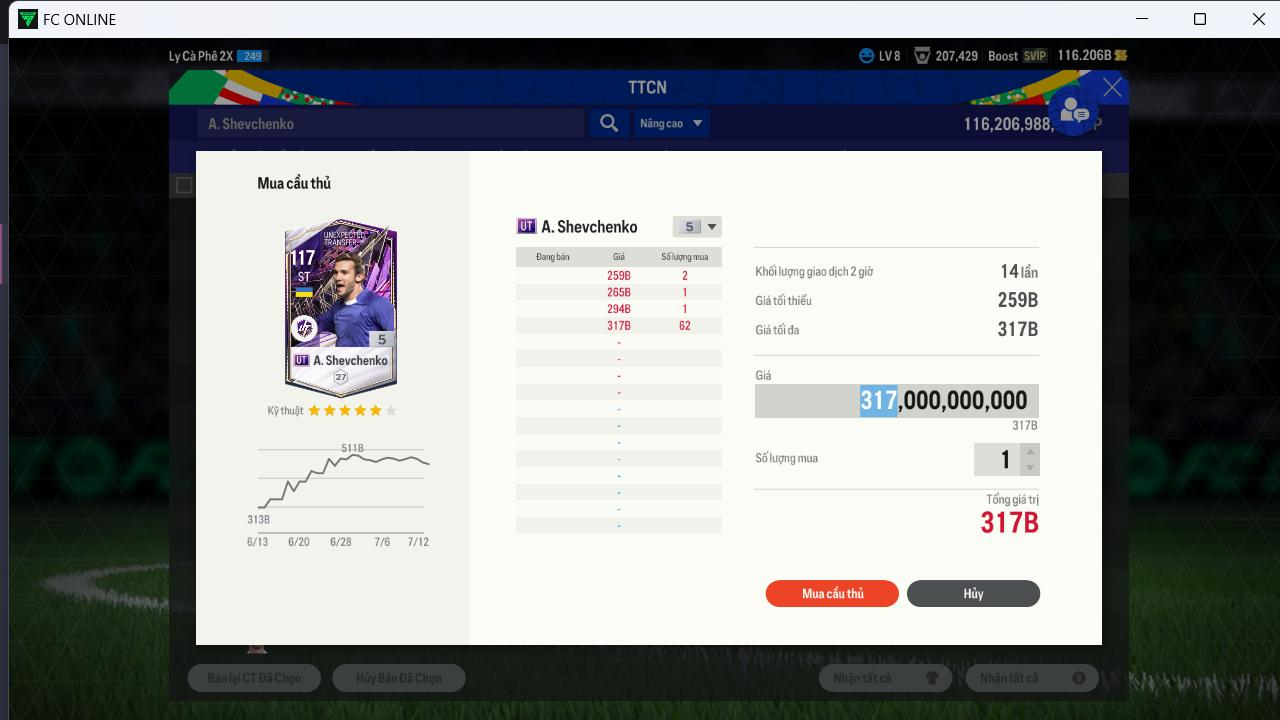buttonhuy: (911, 578, 1038, 608)
buttonmua: (762, 576, 900, 609)
max: (969, 318, 1056, 343)
min: (987, 286, 1043, 312)
